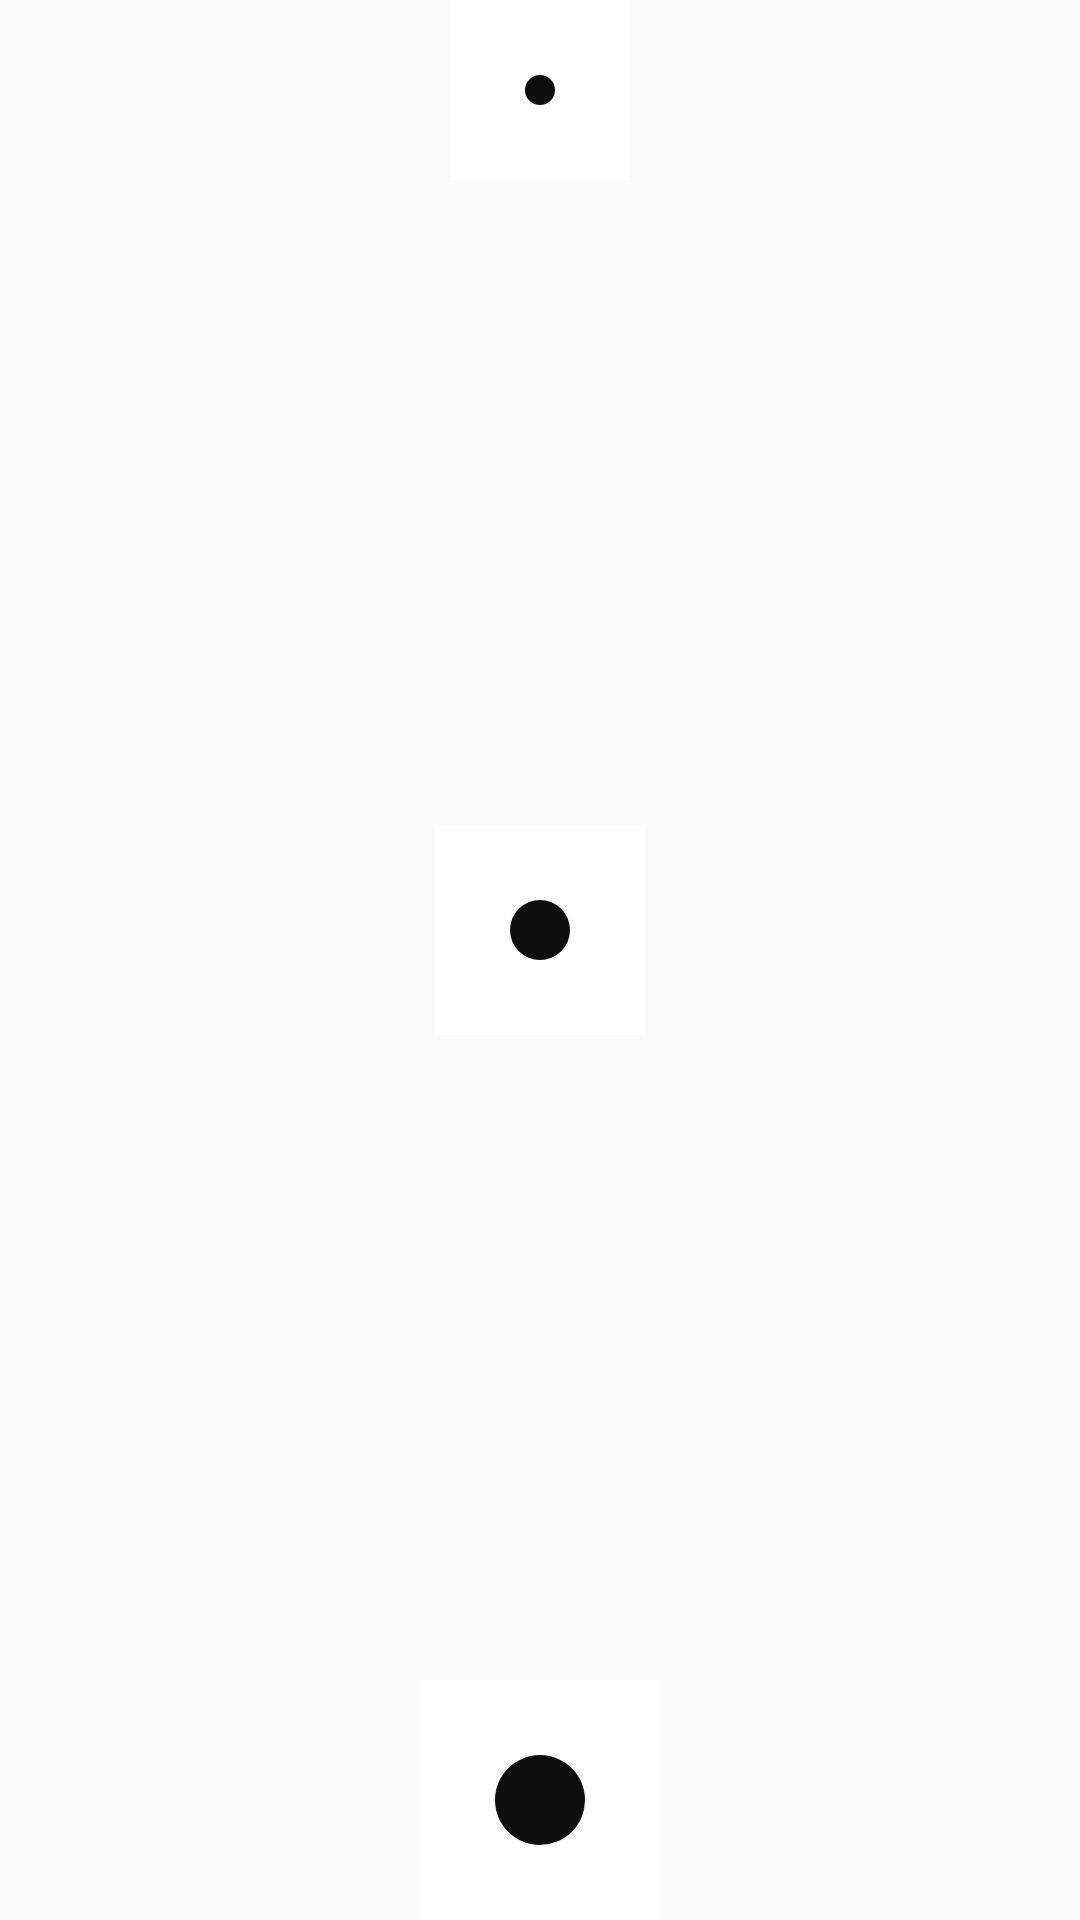

Point at icon controls on the screen. Image size 1080w x 1920h, points as (x,y).
Big brush: (540,1800)
Medium brush: (540,930)
Small brush: (540,90)
